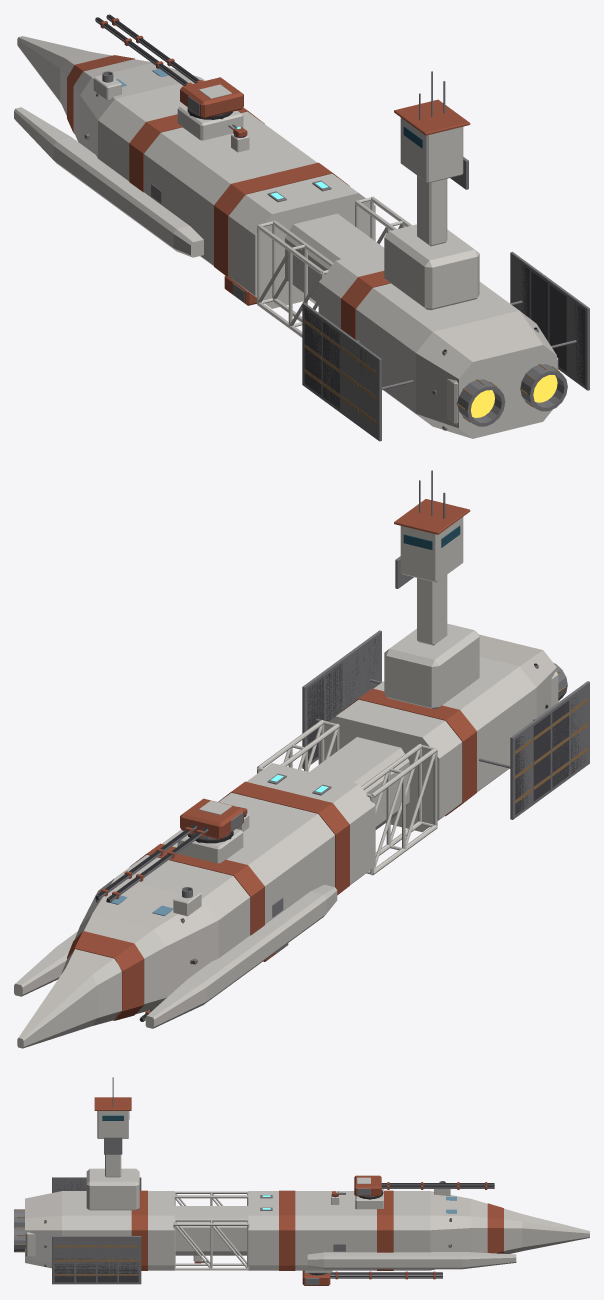
File: mars_gun_cruiser_t5.glb
The picture shows the model from 3 angles, top to bottom: view 1: azimuth 30°, elevation 25°; view 2: azimuth 150°, elevation 25°; view 3: azimuth 270°, elevation 25°; orthographic projection. The views are drawn at different scales.
Visible parts, largest first — view 1: FleetHull, mesh_turret_gun_1, mesh_recoil_gun_1; view 2: FleetHull, mesh_turret_gun_1, mesh_recoil_gun_1; view 3: FleetHull, mesh_recoil_gun_2, mesh_recoil_gun_1, mesh_turret_gun_1, mesh_turret_gun_2.
Boxes of the visible parts, x1=… form: FleetHull: x1=14, y1=36, x2=589, y2=441; mesh_turret_gun_1: x1=180, y1=77, x2=243, y2=118; mesh_recoil_gun_1: x1=95, y1=14, x2=203, y2=85; FleetHull: x1=14, y1=470, x2=589, y2=1048; mesh_turret_gun_1: x1=180, y1=798, x2=243, y2=839; mesh_recoil_gun_1: x1=95, y1=824, x2=208, y2=902; FleetHull: x1=14, y1=1077, x2=589, y2=1284; mesh_recoil_gun_2: x1=330, y1=1271, x2=442, y2=1279; mesh_recoil_gun_1: x1=381, y1=1182, x2=494, y2=1189; mesh_turret_gun_1: x1=354, y1=1175, x2=381, y2=1197; mesh_turret_gun_2: x1=302, y1=1270, x2=330, y2=1285.
Size of the model in its own units: 68.96 by 110 by 281.
